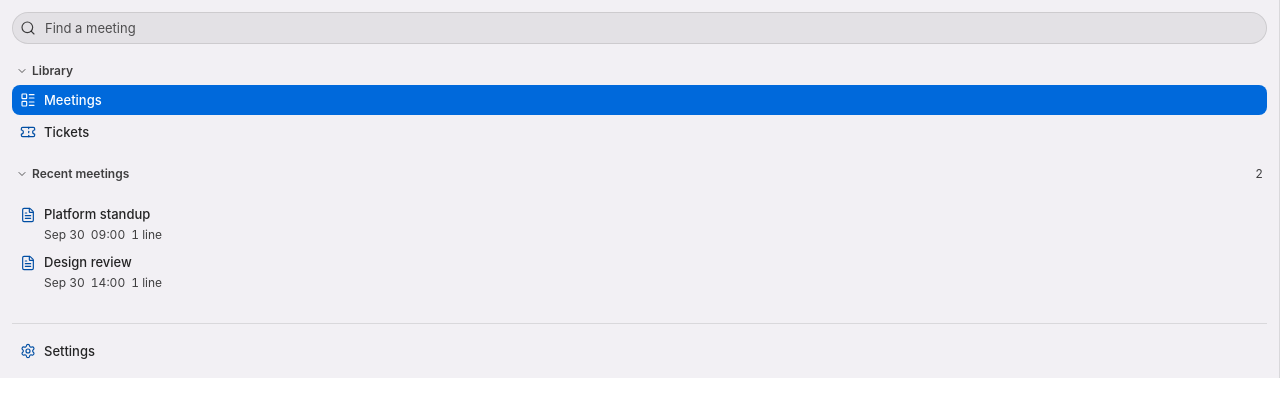
Sidebar (TUR-102) › the find box narrows the meeting list by title
Type "design" into the search field labelled "Find a meeting" at (640, 28), box [12, 12, 1267, 44]
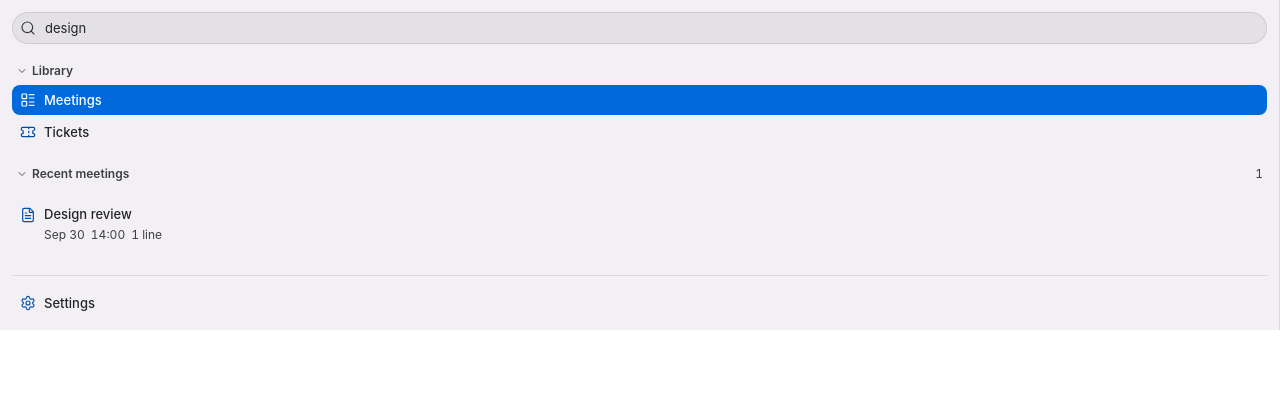
Expected: the text "Design review" is shown, [44, 206, 132, 222]
Expected: the button "Platform standup" is gone
Replace the text in the search field named "Find a meeting" with "nothing like it" at (640, 28), box [12, 12, 1267, 44]
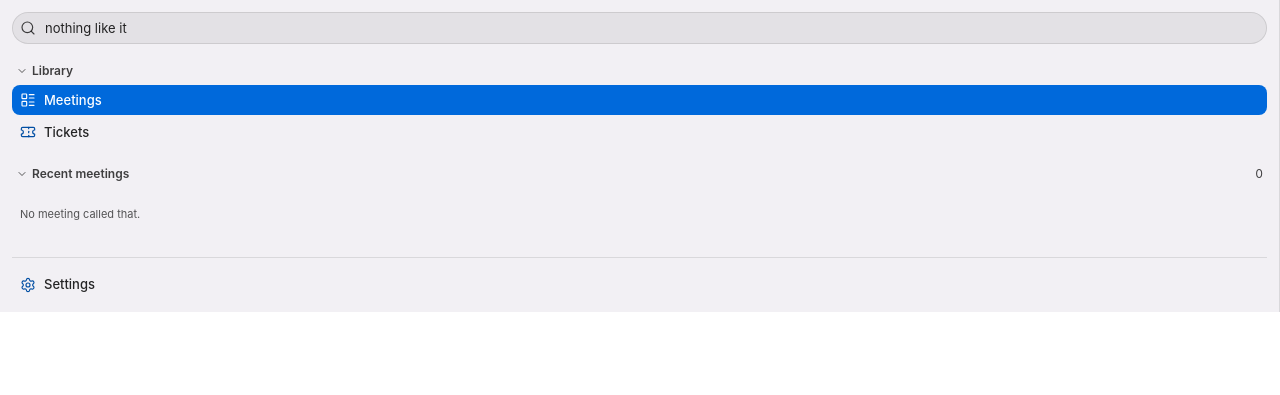
Expected: the list item "No meeting called that." is shown, [20, 207, 140, 221]
